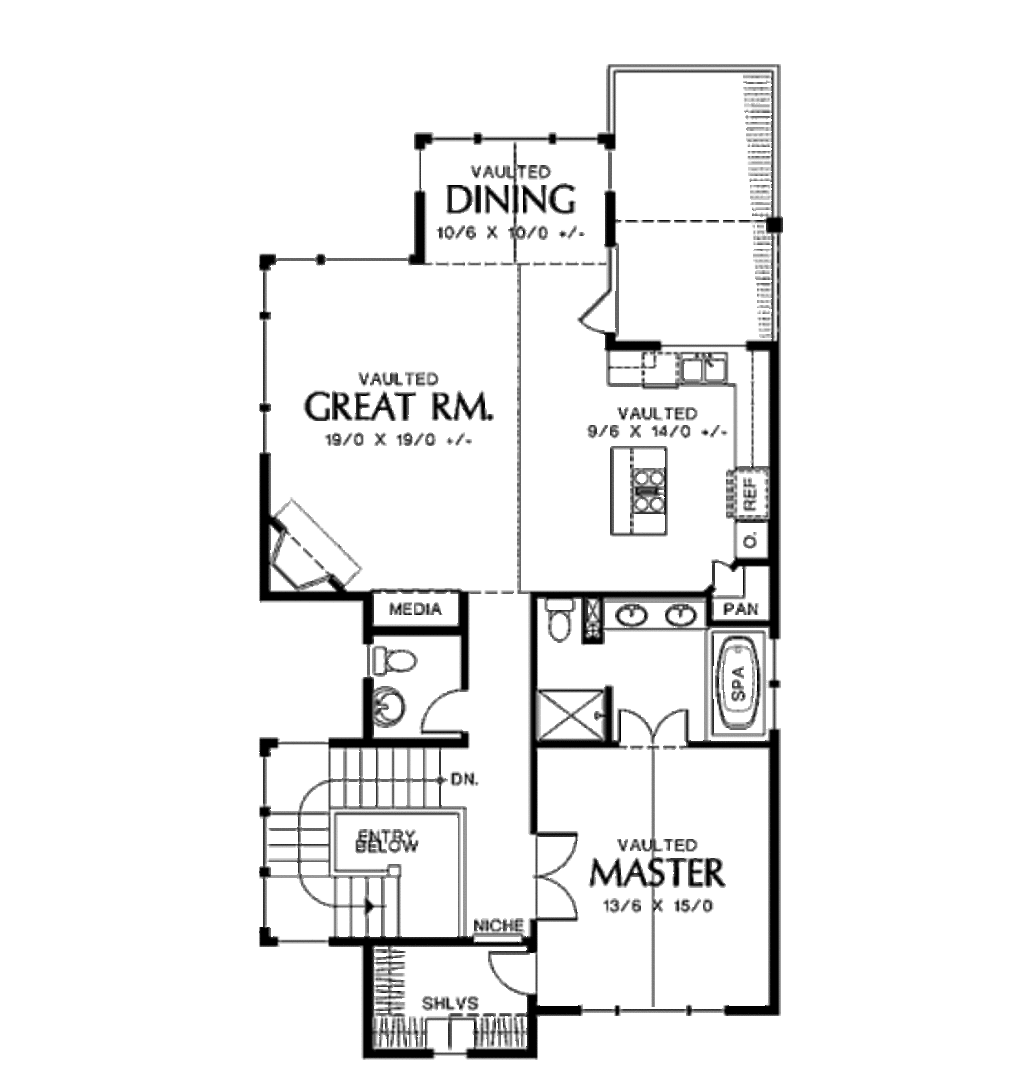door: (534, 828, 582, 922), (611, 704, 695, 748), (418, 686, 469, 737), (487, 947, 539, 994), (578, 284, 616, 332)
kitchen_bar: (609, 443, 674, 544)
large_sink: (539, 589, 578, 648), (369, 643, 420, 683)
small_sink: (604, 597, 701, 630), (375, 683, 409, 732)
stairs: (263, 740, 471, 944)
tub: (712, 633, 765, 739)
twin_sink: (672, 347, 733, 389)
